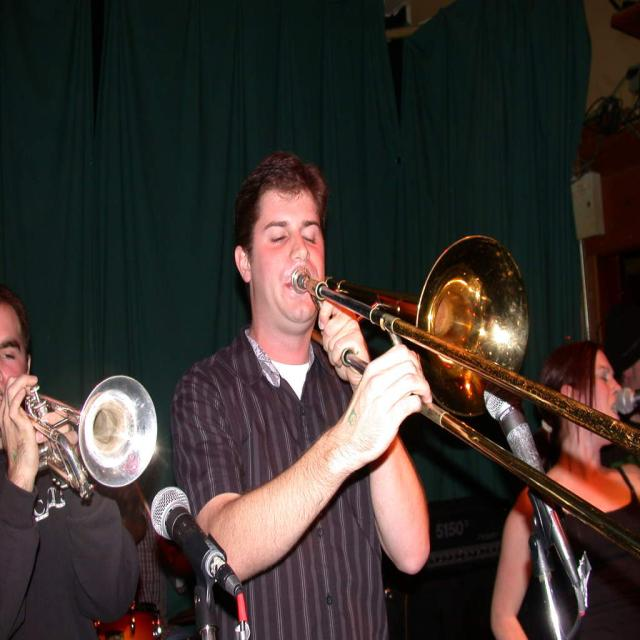no_helmet: (532, 326, 618, 372), (240, 193, 325, 239), (0, 276, 56, 322)
